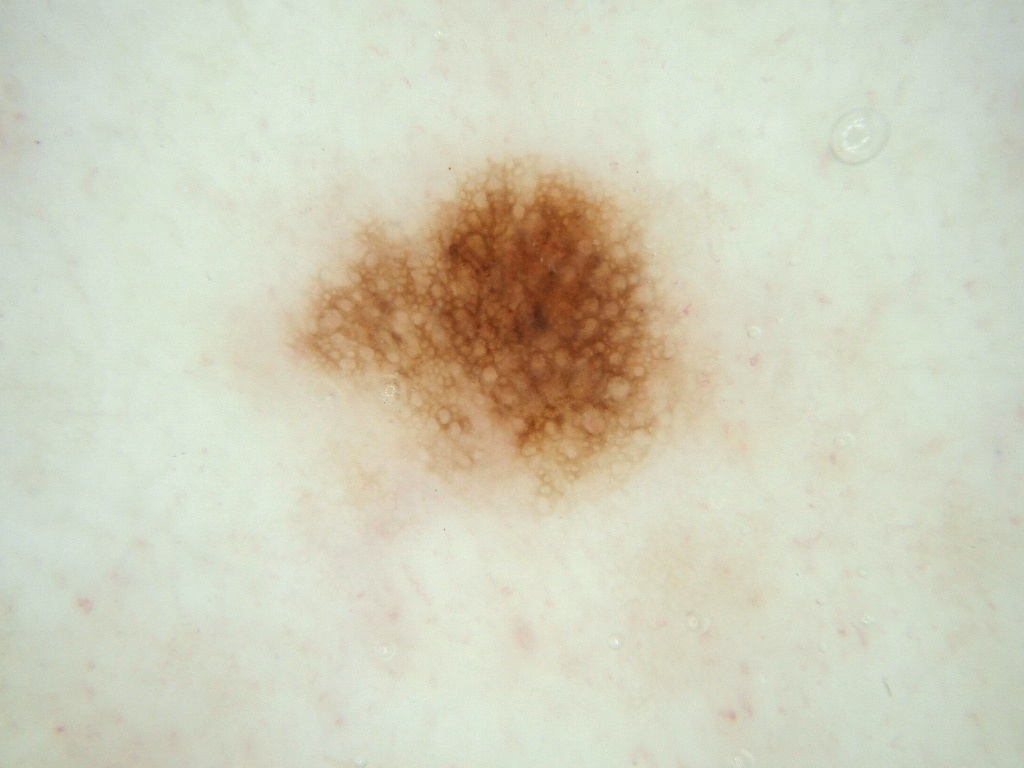Detected Lesion: (282, 146, 698, 500)
